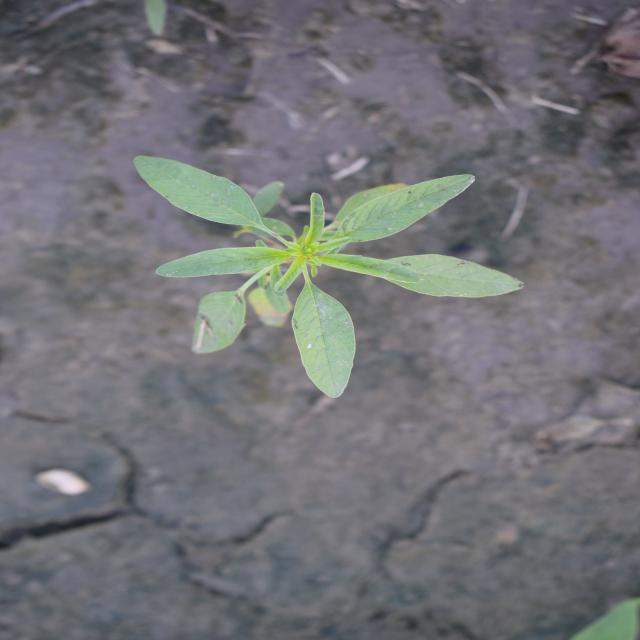Waterhemp: (129, 153, 527, 401)
